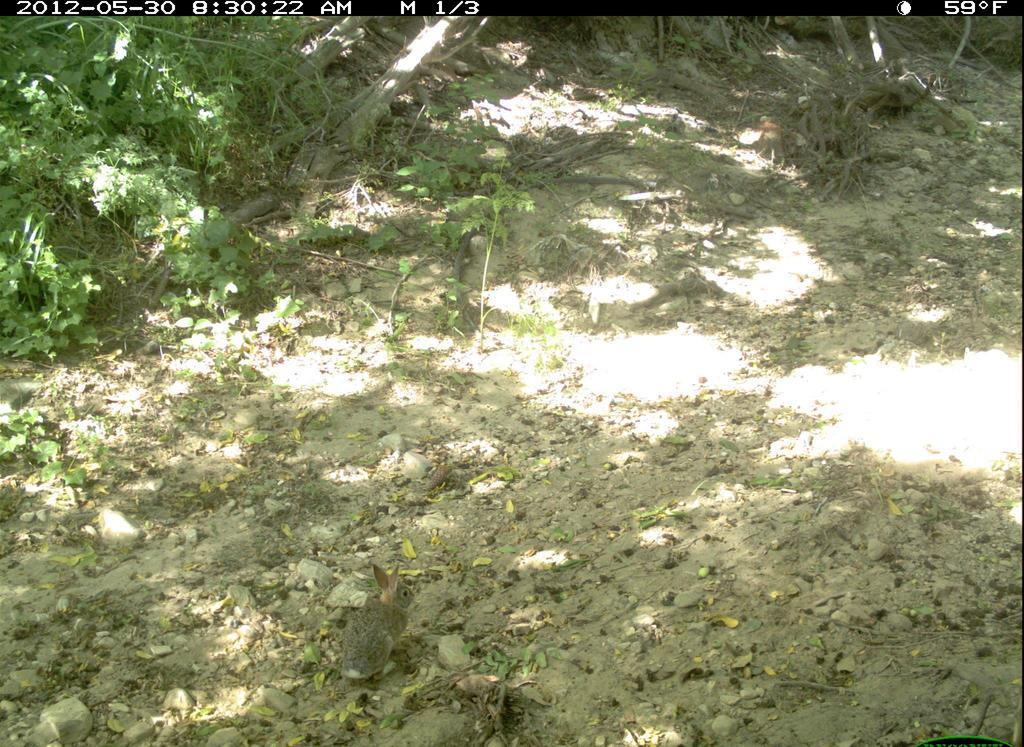rabbit: (327, 562, 429, 684)
